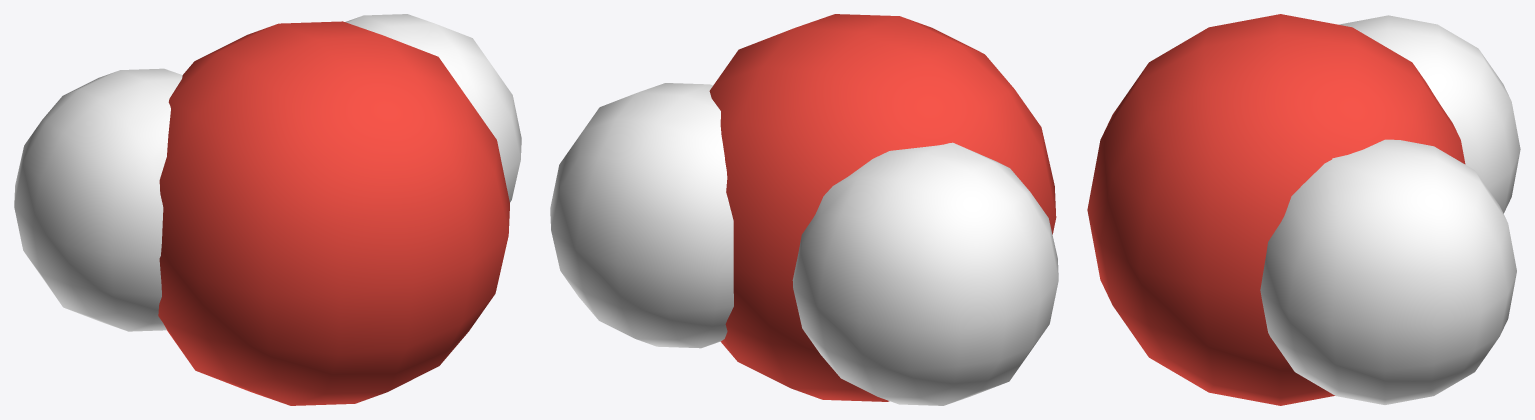
Rendered from Molecule_low.fbx.
The picture shows the model from 3 angles, left to right: view 1: azimuth 30°, elevation 25°; view 2: azimuth 150°, elevation 25°; view 3: azimuth 270°, elevation 25°; orthographic projection.
Visible parts, largest first — view 1: Molecule_low; view 2: Molecule_low; view 3: Molecule_low.
Part boxes in pixels (left/top/right/bottom): Molecule_low: left=14, top=14, right=521, bottom=405; Molecule_low: left=550, top=14, right=1058, bottom=405; Molecule_low: left=1087, top=14, right=1520, bottom=405.
Bounding box in the file's own units: 1.15 × 0.812 × 0.9101.
